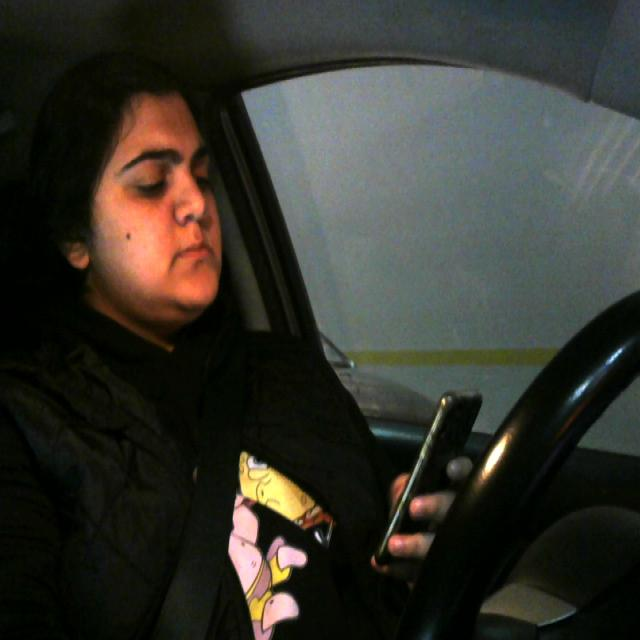mobile use: (383, 381, 488, 579)
